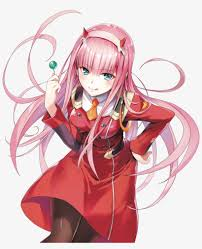zeroTwo: (71, 20, 134, 100)
